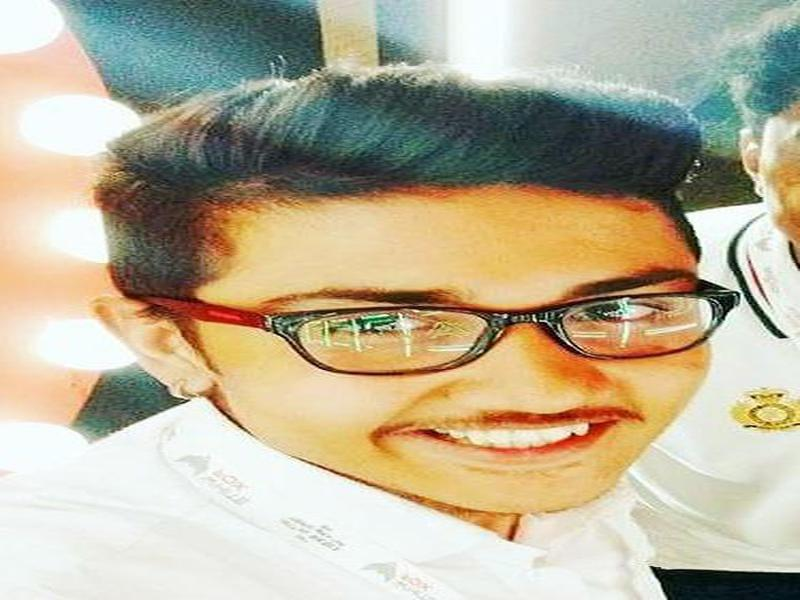without_mask: (196, 195, 715, 516)
